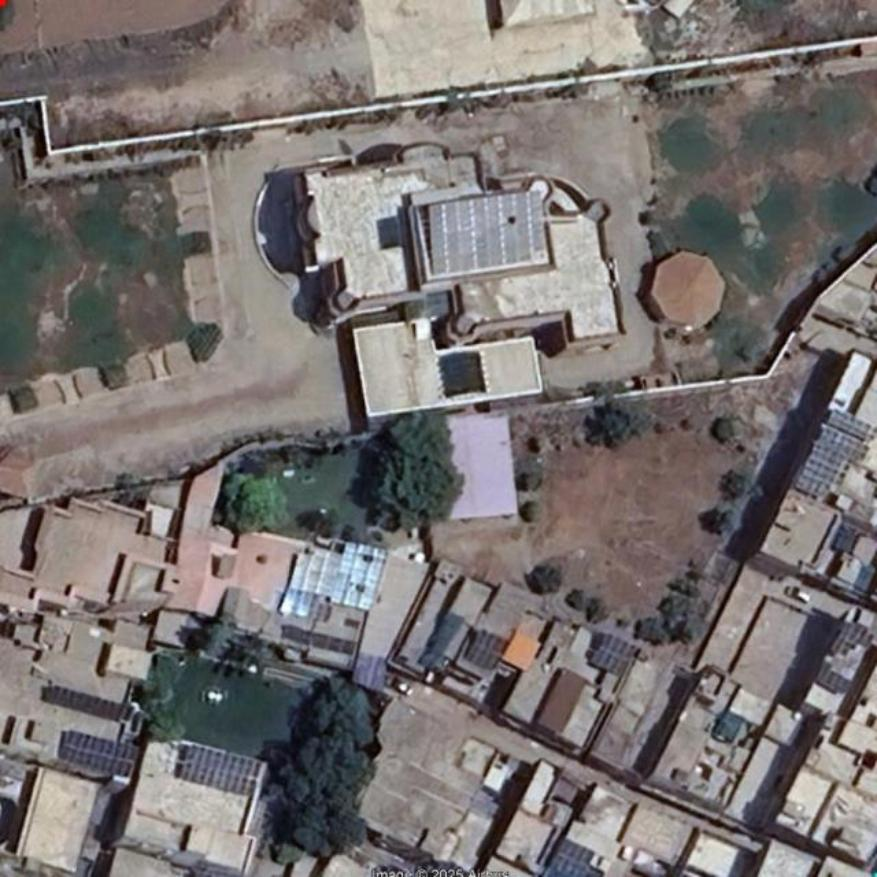Solarpanel: (429, 190, 549, 274), (793, 407, 874, 507), (180, 742, 260, 797), (333, 540, 387, 612), (59, 730, 139, 778), (286, 546, 340, 596), (590, 632, 639, 677), (545, 840, 596, 876), (466, 629, 509, 668), (280, 587, 313, 618)
